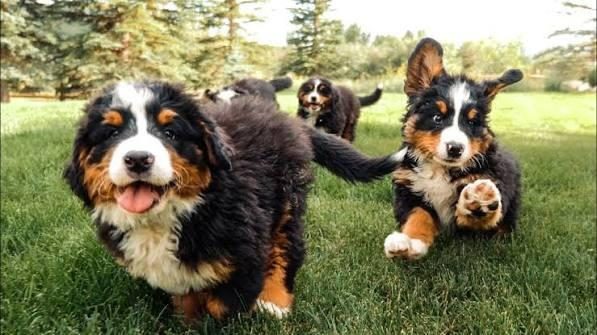puppy-dog: (64, 79, 402, 328), (383, 36, 527, 262), (296, 76, 386, 145), (203, 76, 293, 116)
